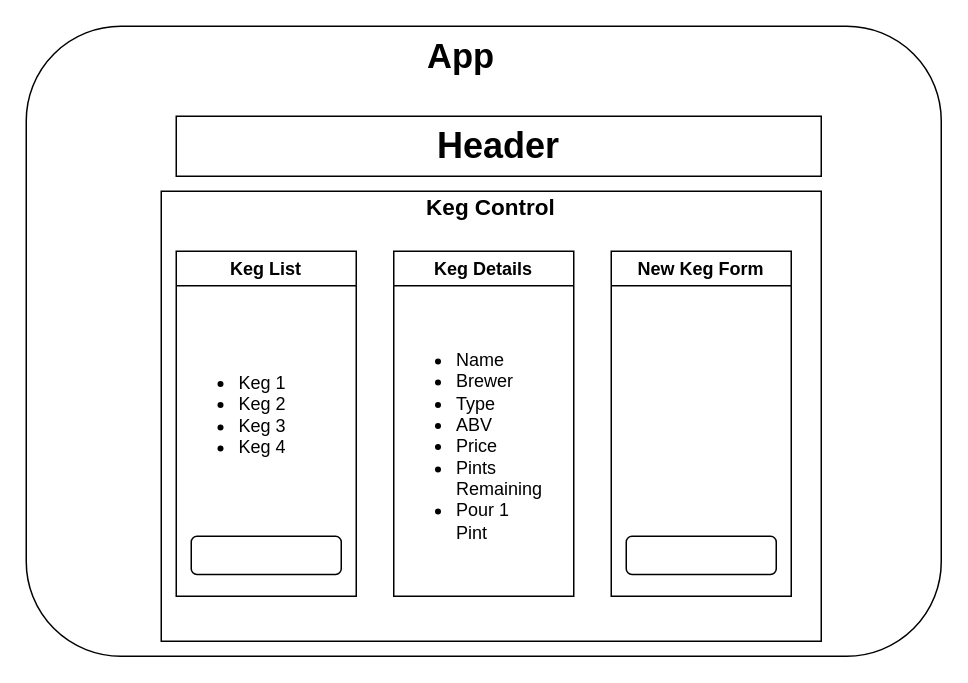
This 968x683 diagram has some shape labels left out. Here are the shapes that lost their labels. From the top down, the centre of each, then its label:
At pixel 265 554: "Create New Keg".
At pixel 700 554: "Submit".
